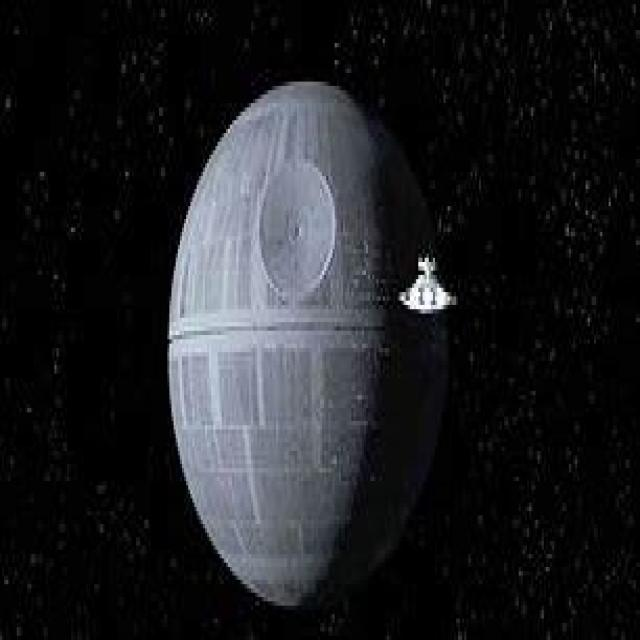Death Star: (161, 69, 460, 614)
